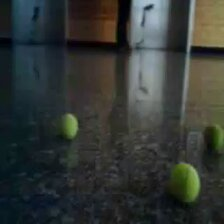tennis: (170, 162, 201, 201), (57, 112, 80, 141), (204, 125, 224, 153)
